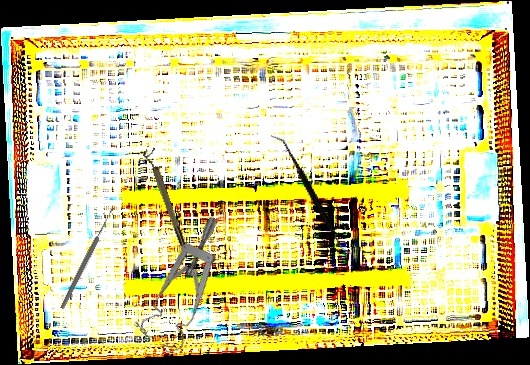Fixation Ring: (141, 146, 188, 249)
Spatula Surgical: (238, 133, 385, 257)
Speculum: (115, 214, 264, 361)
Surgical Spoon: (59, 206, 116, 310)
